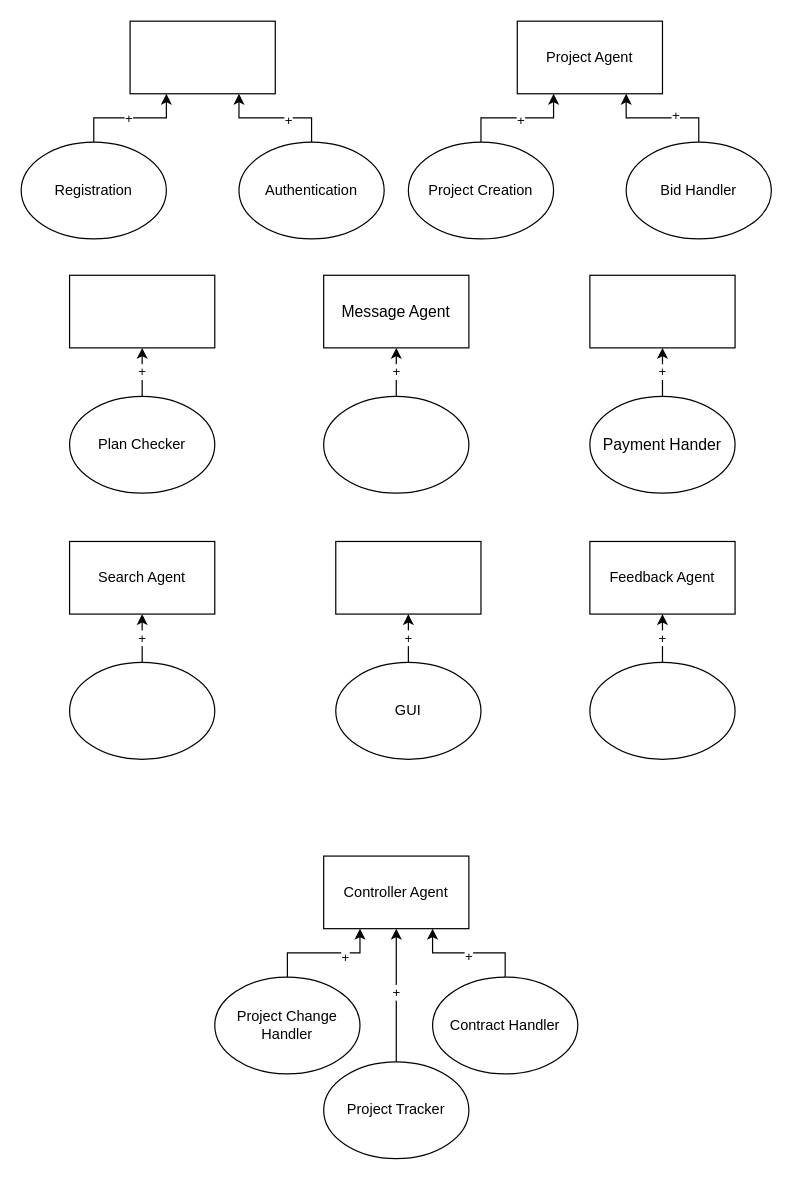
Image size: 793x1180. Some labels were removed from this diagram. The shapes that lost their labels are listed below. From the top down, each one's centre as x and y in pixels, then its label:
point 202,57: Access Agent
point 141,311: Plan Agent
point 662,311: Payment Agent
point 395,444: Message Handler
point 408,577: GUI Agent
point 141,710: Provider Search
point 662,710: Feedback Handler
